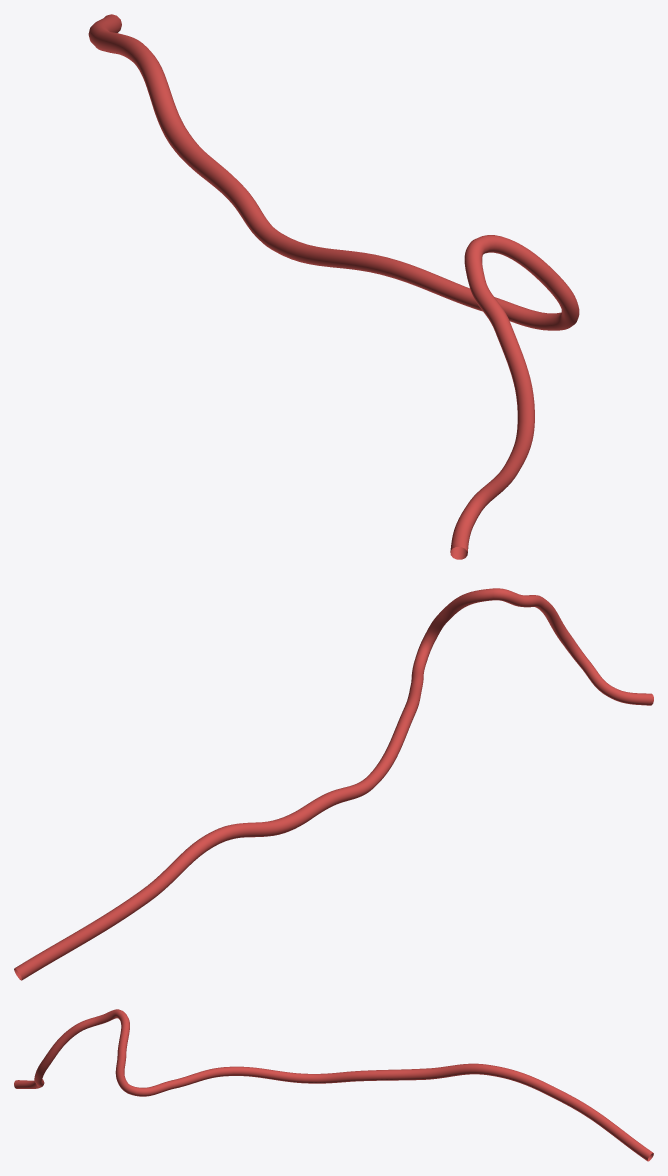
The picture shows the model from 3 angles, top to bottom: view 1: azimuth 30°, elevation 25°; view 2: azimuth 150°, elevation 25°; view 3: azimuth 270°, elevation 25°; orthographic projection. The views are drawn at different scales.
Parts seen in each view (by area): view 1: 左侧椎动脉; view 2: 左侧椎动脉; view 3: 左侧椎动脉.
Part boxes in pixels (x1,y1,x2,y2): 左侧椎动脉: [88, 14, 579, 559]; 左侧椎动脉: [14, 588, 653, 980]; 左侧椎动脉: [14, 1009, 653, 1161].
Bounding box in the file's own units: 0.0635 × 0.0448 × 0.2341.
